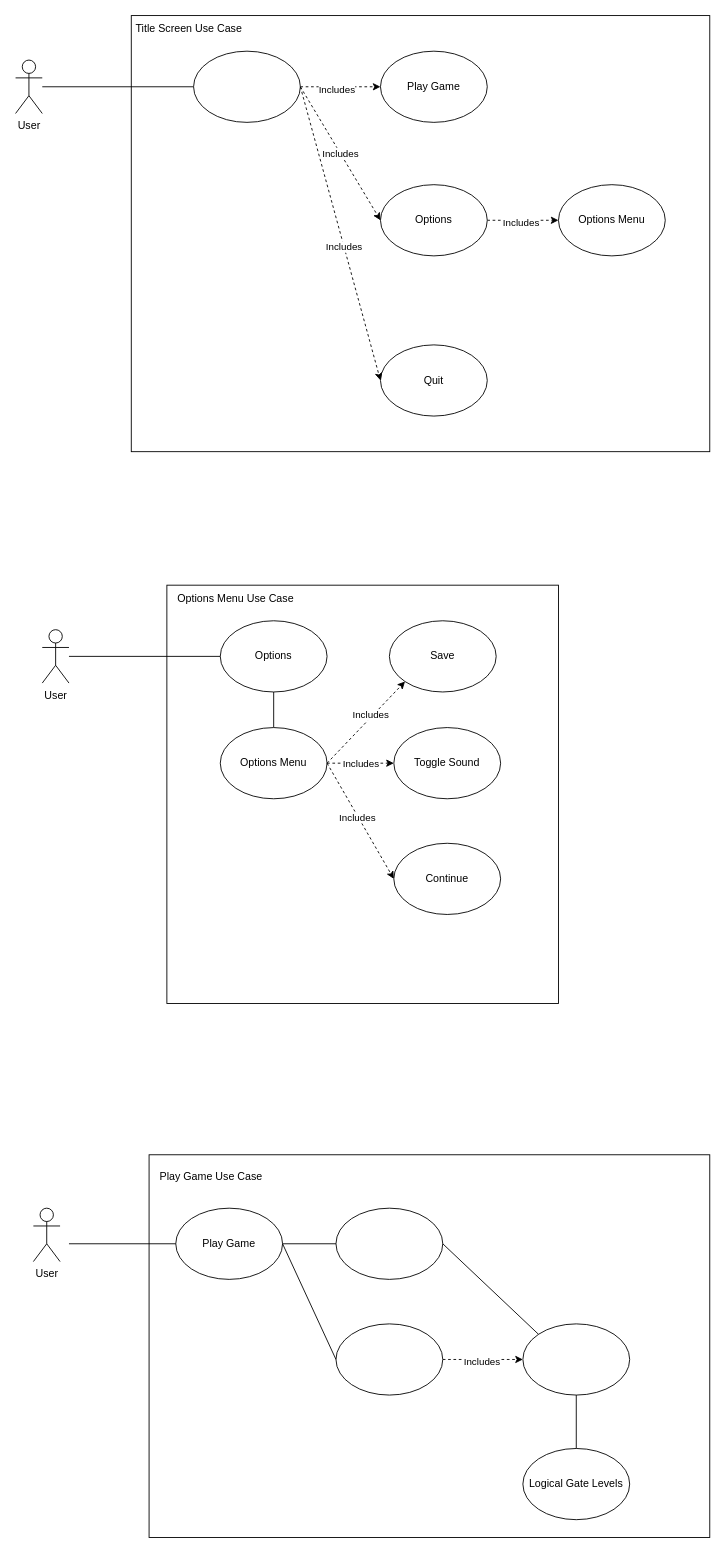
Some shapes in this 725 by 1560 pixel diagram are drawn without their labels. The centre of each missing label's shape, as x and y in pixels:
Continue Game: the point at 389,1359
New Game: the point at 389,1243
Save Data: the point at 576,1359
Title Screen: the point at 246,86
